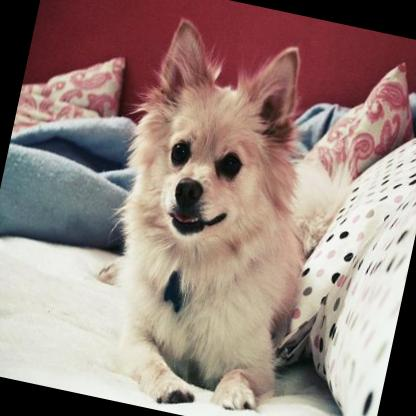Pomeranian: (69, 7, 380, 416)
